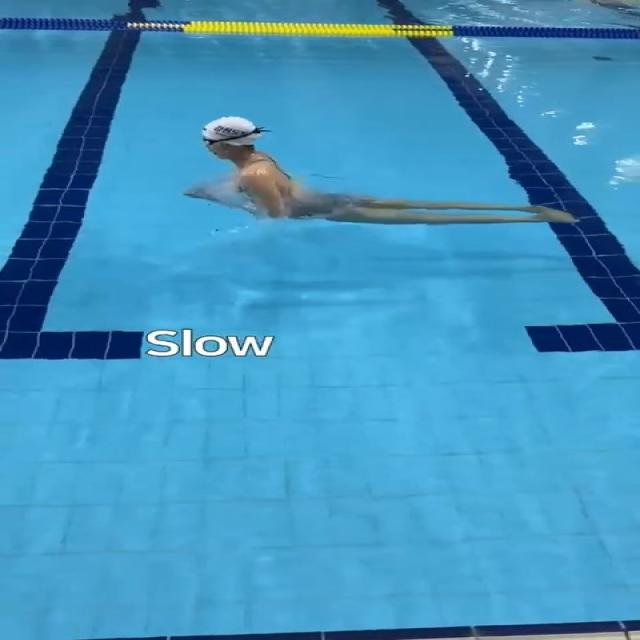Swimming: (155, 120, 602, 232)
